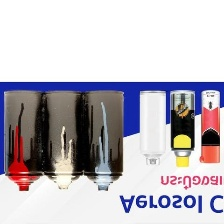aerosol_cans: (40, 88, 88, 193), (1, 88, 48, 194), (82, 88, 126, 193), (136, 88, 168, 167), (167, 88, 197, 169), (197, 88, 223, 166)
